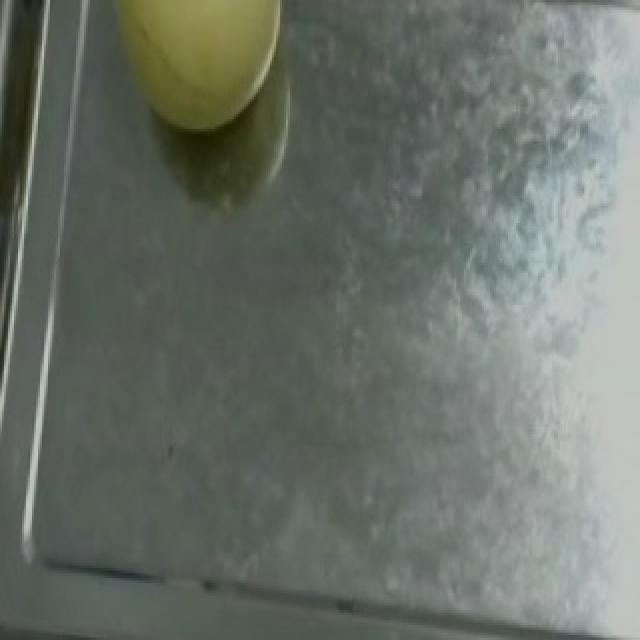Fruit: (88, 0, 296, 146)
